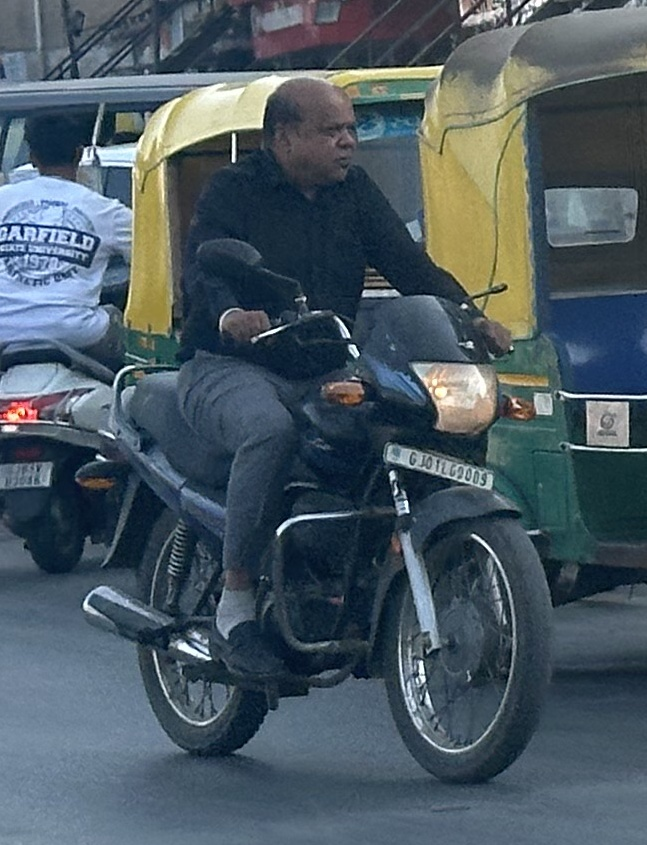BikeWithRider: (66, 65, 562, 795), (0, 101, 138, 585)
NoHelmet: (247, 65, 371, 200), (15, 106, 95, 190)
